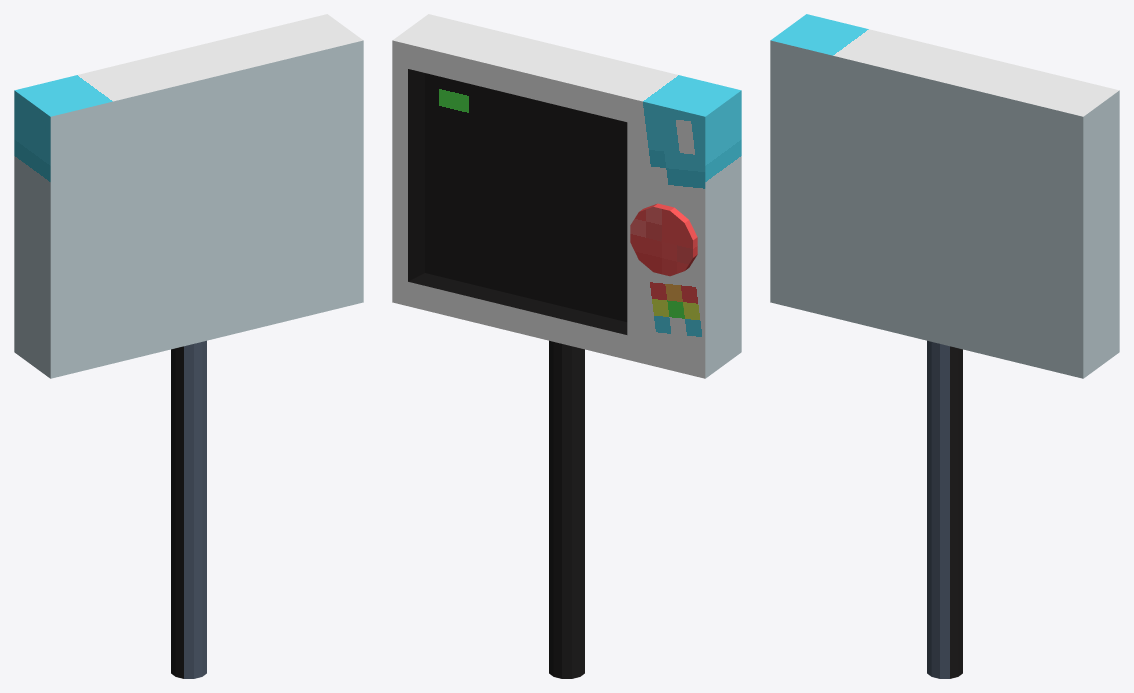
The model's file is Screen Model.fbx.
The picture shows the model from 3 angles, left to right: view 1: azimuth 30°, elevation 25°; view 2: azimuth 150°, elevation 25°; view 3: azimuth 330°, elevation 25°; orthographic projection.
Parts seen in each view (by area): view 1: screen; view 2: screen; view 3: screen.
Part boxes in pixels (left/top/right/bottom): screen: left=14, top=14, right=363, bottom=678; screen: left=392, top=14, right=741, bottom=678; screen: left=770, top=14, right=1119, bottom=678.
Size of the model in its own units: 62.5 by 116 by 14.06.
1 material, 1 textured.
